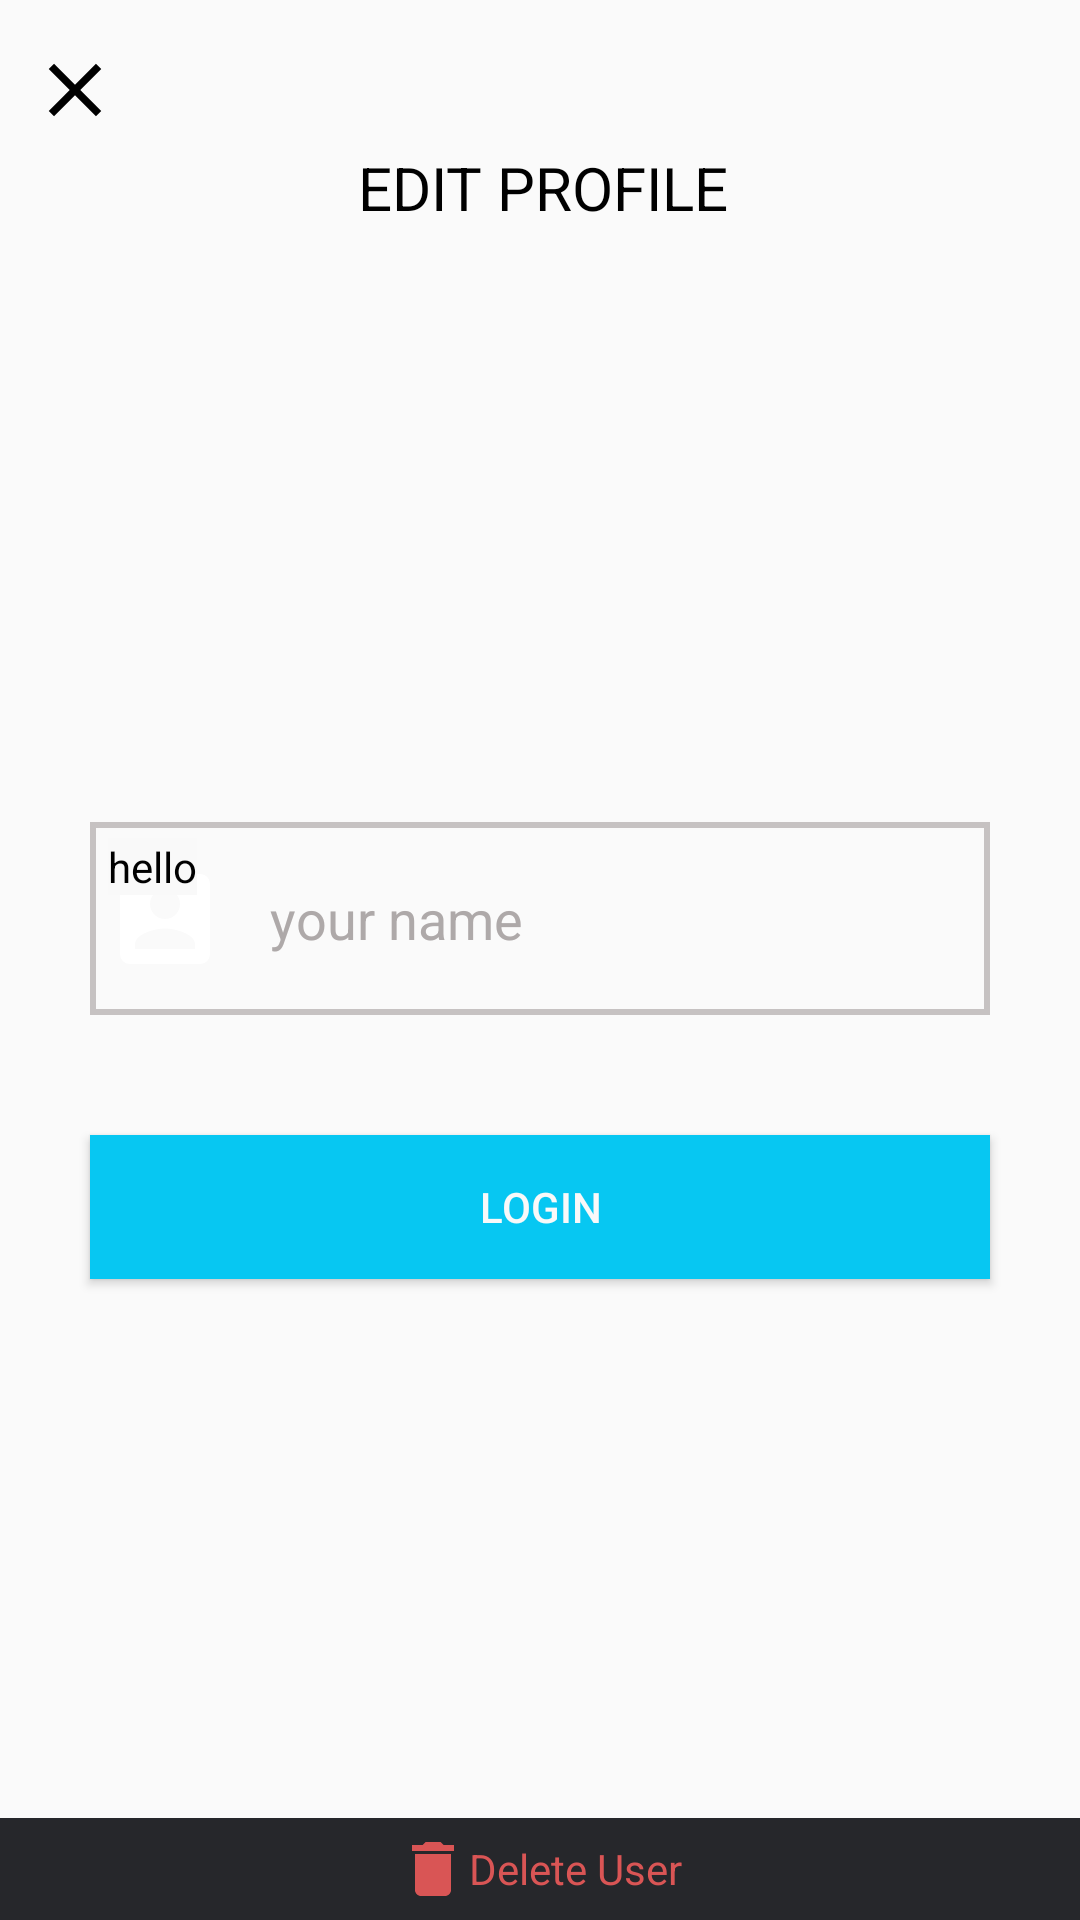

Icon bounding boxes for this 1080 x 1920 phone screenshot, format (x1, y1, x2, y2):
close appday: (49, 64, 101, 116)
